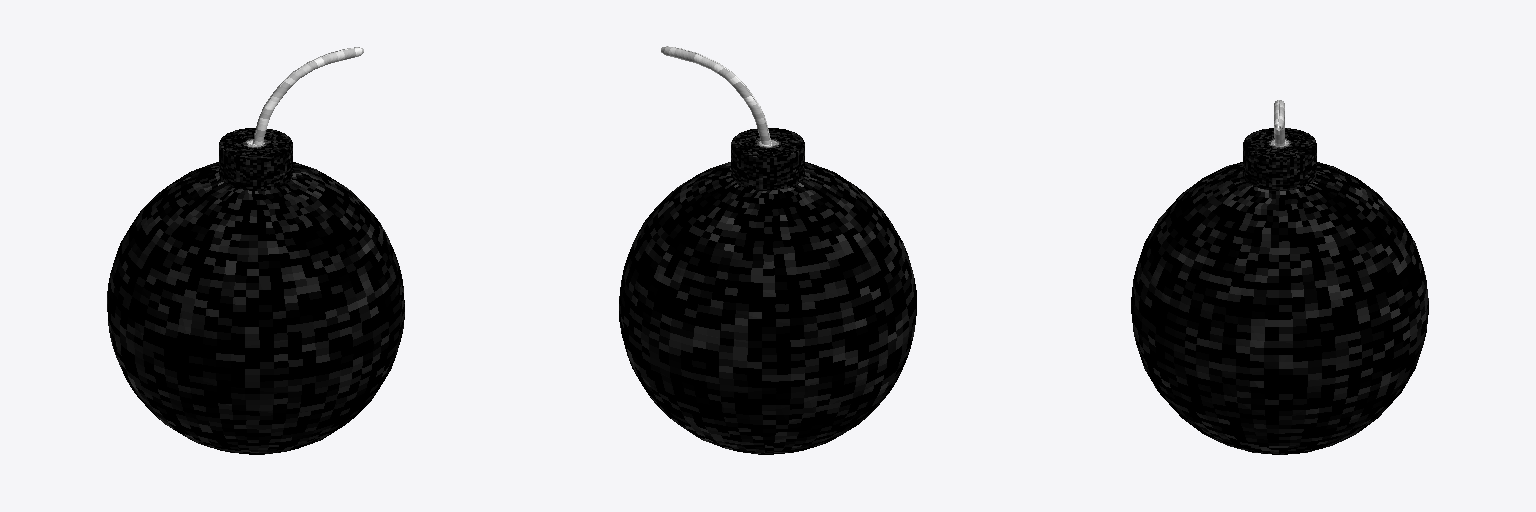
3 views of the same model, side by side, from view 1: azimuth 30°, elevation 25°; view 2: azimuth 150°, elevation 25°; view 3: azimuth 270°, elevation 25° (orthographic).
Parts seen in each view (by area): view 1: Handle52; view 2: Handle52; view 3: Handle52.
Boxes of the visible parts, x1,y1,x2,y2 form: Handle52: [107, 47, 404, 454]; Handle52: [619, 46, 916, 454]; Handle52: [1131, 100, 1428, 454].
Size of the model in its own units: 1.96 by 2.69 by 1.96.
Materials: 1 (1 with a texture image).